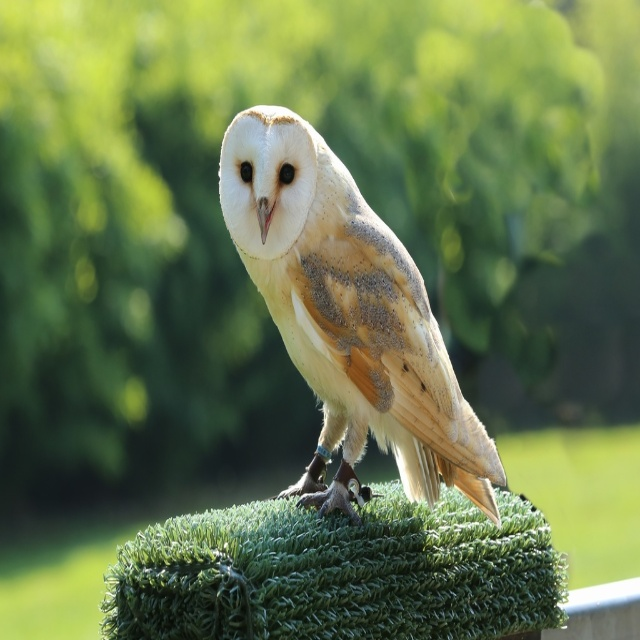Owl: (212, 101, 509, 522)
